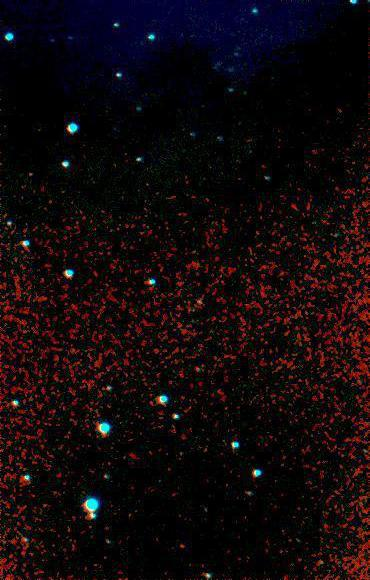star: (169, 528, 199, 558)
